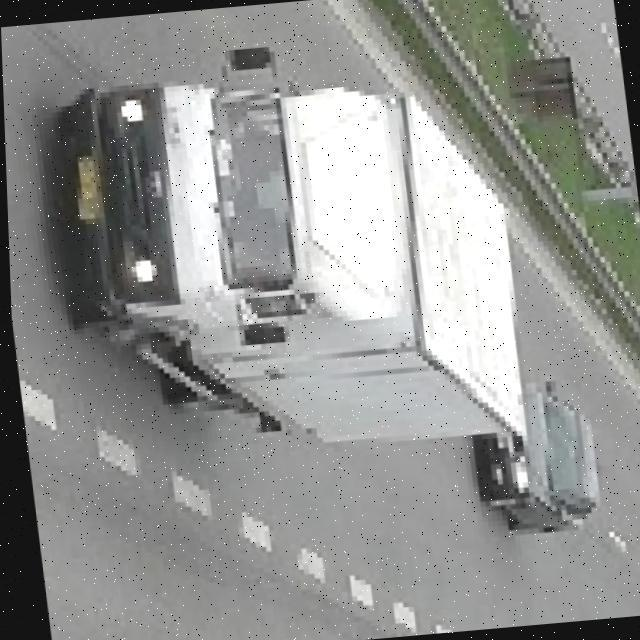truck: (29, 28, 534, 474)
